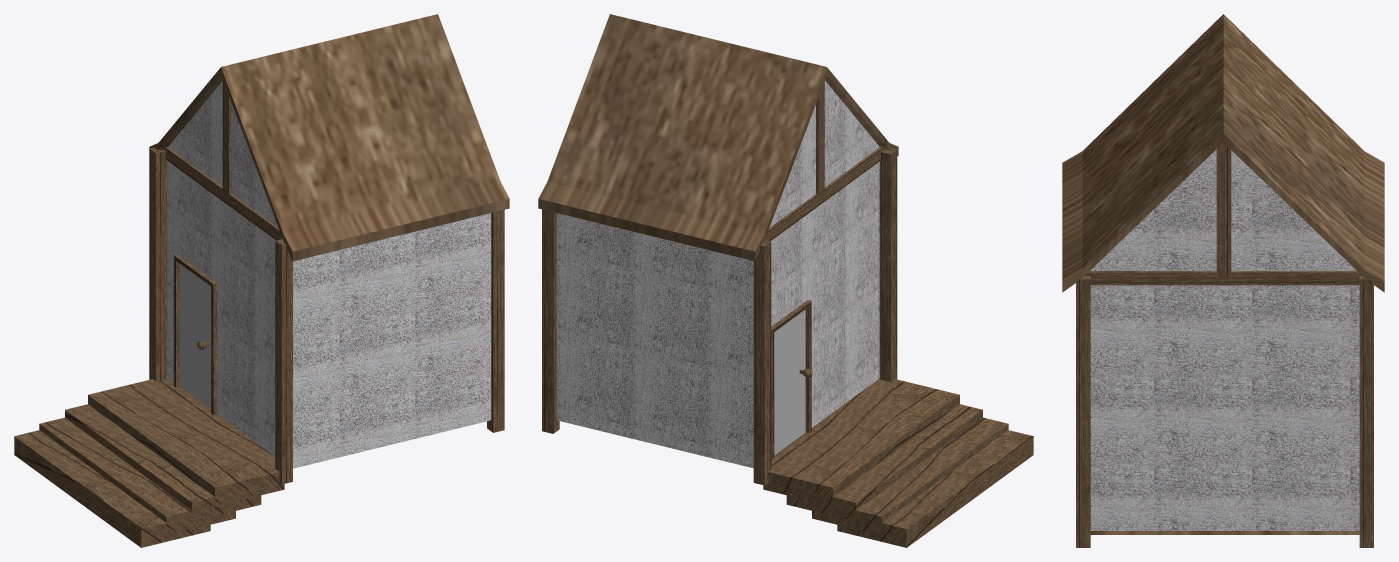
The model's file is house_001.glb.
3 renders of one model, left to right at view 1: azimuth 30°, elevation 25°; view 2: azimuth 150°, elevation 25°; view 3: azimuth 270°, elevation 25°, orthographic. The views are drawn at different scales.
Visible parts, largest first — view 1: Cube.001; view 2: Cube.001; view 3: Cube.001.
Boxes of the visible parts, x1,y1,x2,y2 form: Cube.001: (14, 14, 509, 547); Cube.001: (538, 14, 1033, 547); Cube.001: (1062, 14, 1384, 547).
Size of the model in its own units: 23.66 by 25.02 by 16.27.
Materials: 3 (2 with a texture image).
